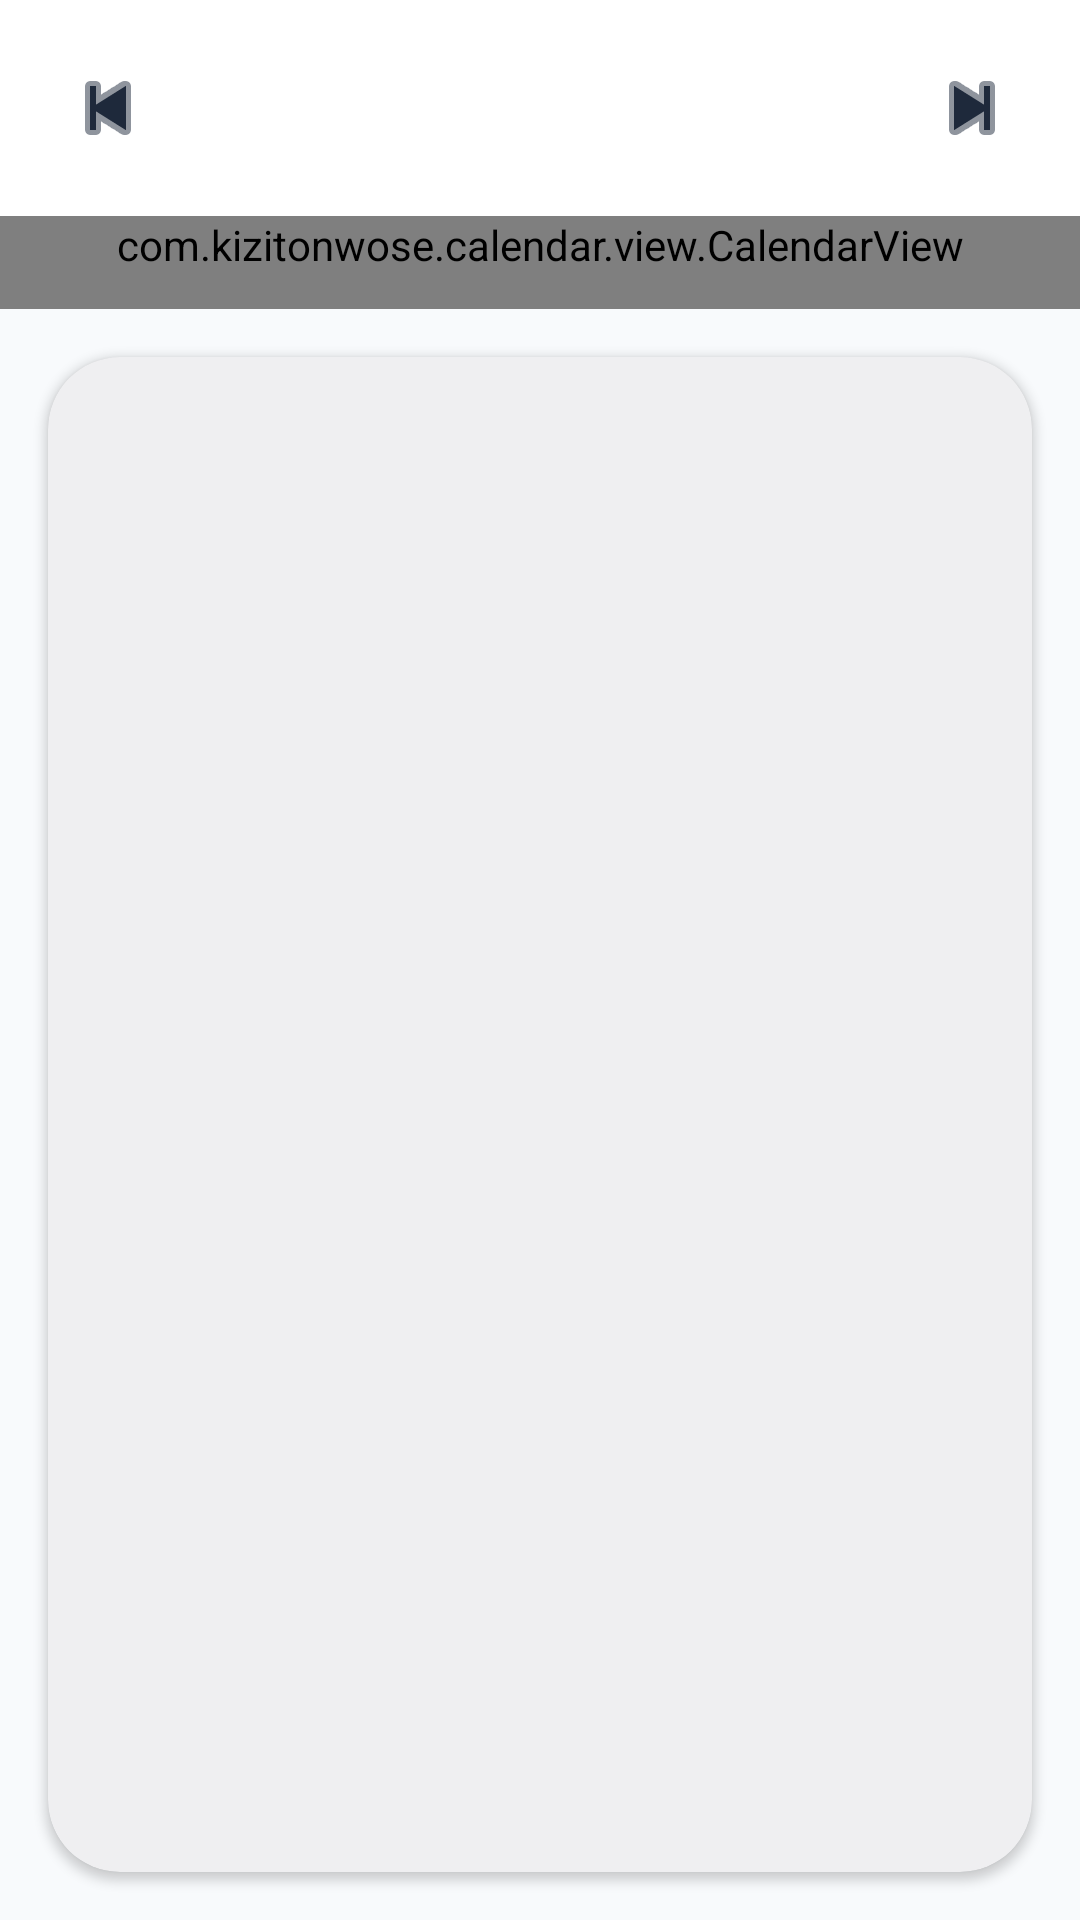

Named icons in this screenshot (1080px x 1920px) and their bounding boxes, (x1, y1, x2, y2):
Geri: (85, 81, 131, 135)
İleri: (949, 81, 995, 135)
